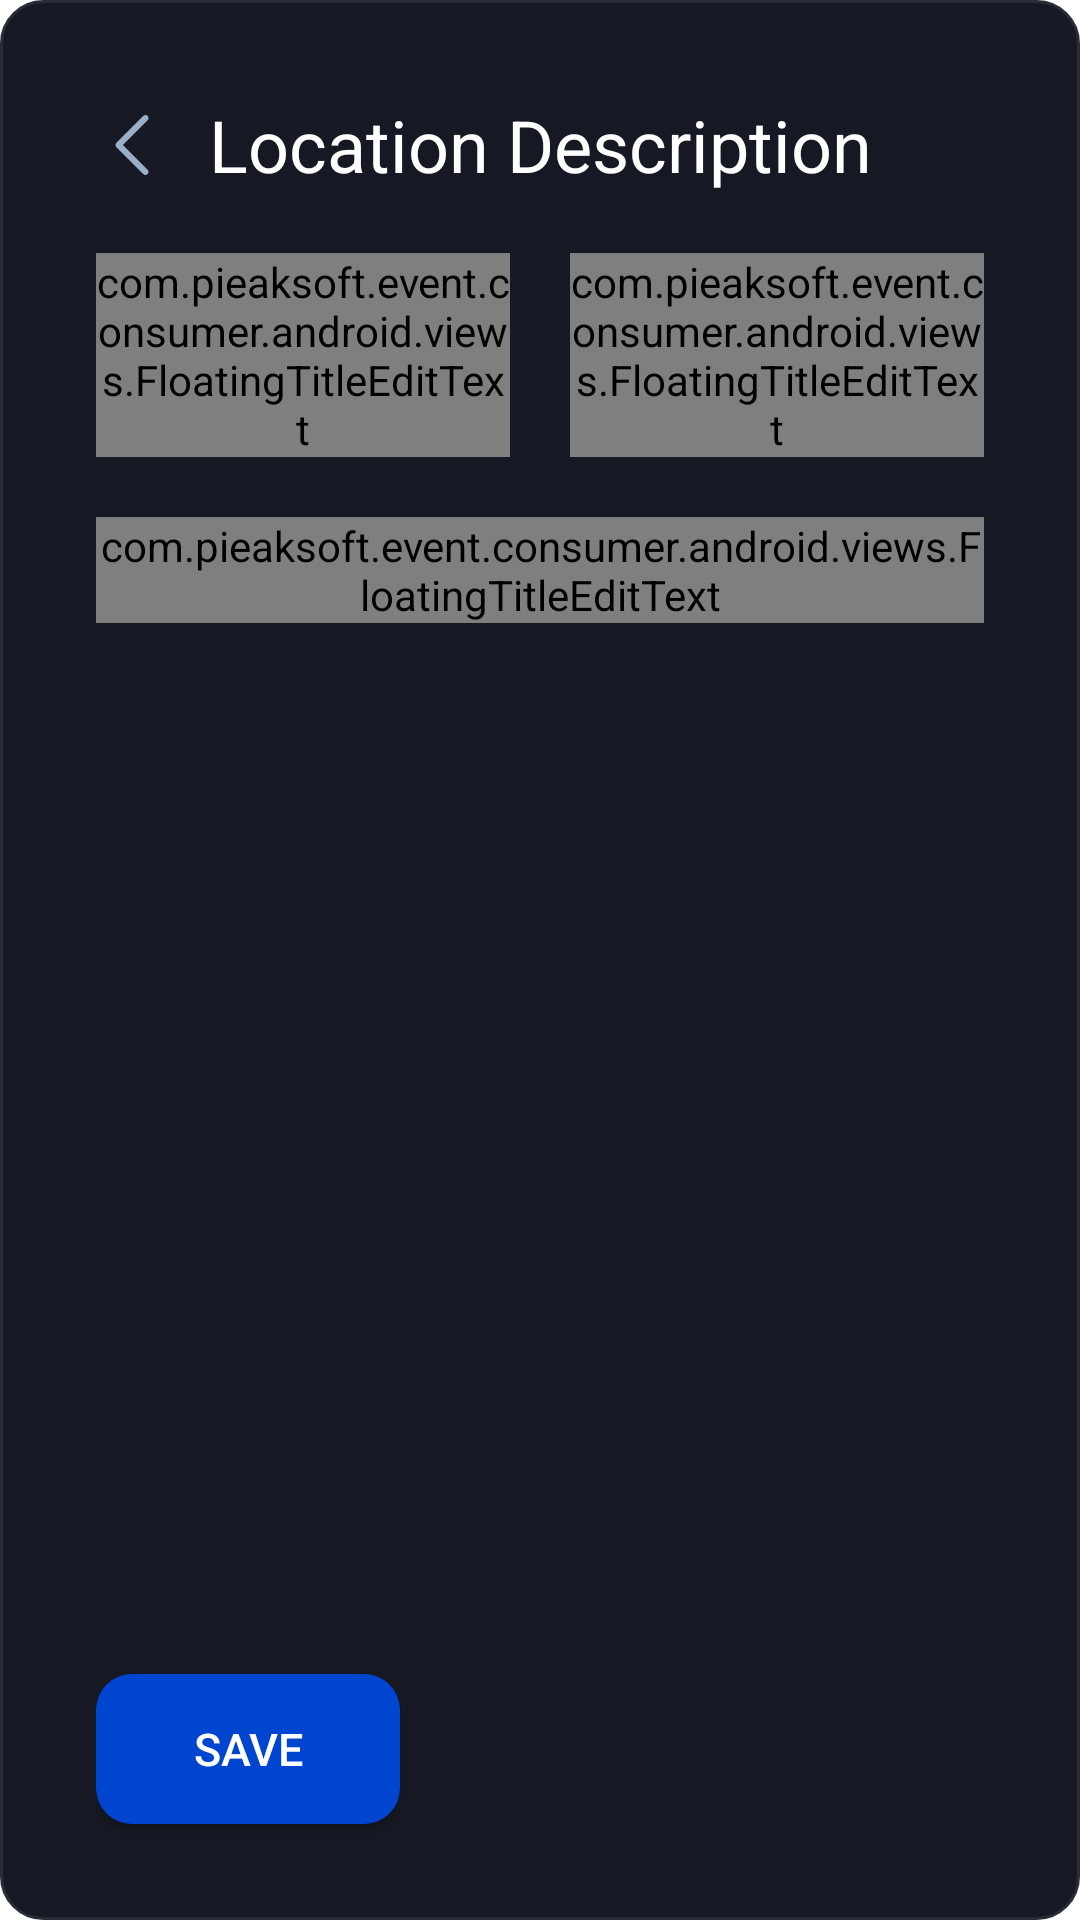

Point at icon controls on the screen. Image size 1080w x 1920h, points as (x,y).
back left: (132,145)
